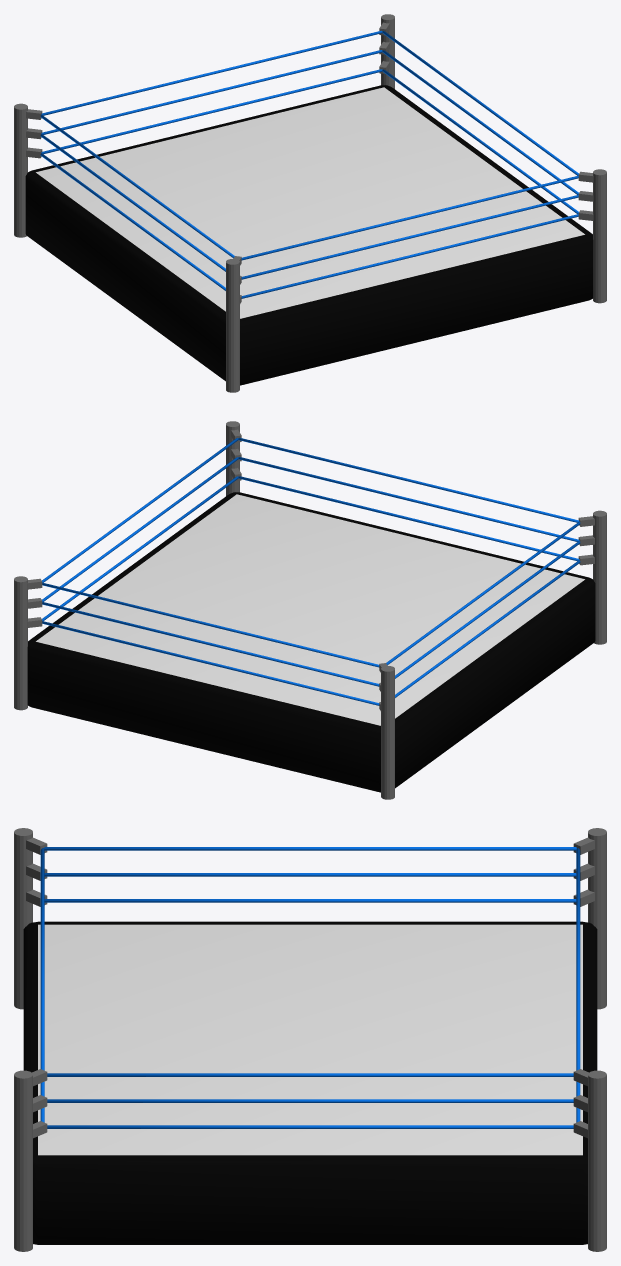
The model's file is ring.dae.
3 renders of one model, top to bottom at view 1: azimuth 30°, elevation 25°; view 2: azimuth 150°, elevation 25°; view 3: azimuth 270°, elevation 25°, orthographic. The views are drawn at different scales.
Visible parts, largest first — view 1: Cube, Turnbuckle, Turnbuckle.002, Turnbuckle.003, Rope.005, Rope.004, Rope.009, Rope.010, Rope.011, Rope.003, Turnbuckle.001, Rope (+5 smaller); view 2: Cube, Turnbuckle.001, Turnbuckle.003, Turnbuckle.002, Rope.011, Rope.003, Rope.004, Rope.005, Rope.010, Rope.009, Turnbuckle, Rope (+5 smaller); view 3: Cube, Turnbuckle, Turnbuckle.001, Turnbuckle.002, Turnbuckle.003, Rope.006, Rope.007, Rope.008, Rope, Rope.001, Rope.002, Rope.005 (+1 smaller).
Boxes of the visible parts, bbox=[...] form: Cube: bbox=[25, 85, 593, 385]; Turnbuckle: bbox=[578, 169, 606, 303]; Turnbuckle.002: bbox=[14, 103, 42, 237]; Turnbuckle.003: bbox=[226, 256, 241, 392]; Rope.005: bbox=[41, 30, 382, 115]; Rope.004: bbox=[41, 50, 382, 134]; Rope.009: bbox=[241, 214, 578, 298]; Rope.010: bbox=[241, 195, 578, 279]; Rope.011: bbox=[241, 175, 578, 260]; Rope.003: bbox=[41, 69, 382, 154]; Turnbuckle.001: bbox=[379, 14, 394, 88]; Rope: bbox=[382, 31, 578, 175]; Cube: bbox=[27, 492, 595, 792]; Turnbuckle.001: bbox=[14, 576, 42, 710]; Turnbuckle.003: bbox=[578, 510, 606, 644]; Turnbuckle.002: bbox=[379, 663, 394, 799]; Rope.011: bbox=[238, 437, 579, 522]; Rope.003: bbox=[42, 621, 379, 705]; Rope.004: bbox=[42, 602, 379, 686]; Rope.005: bbox=[42, 582, 379, 667]; Rope.010: bbox=[238, 457, 579, 541]; Rope.009: bbox=[238, 476, 579, 561]; Turnbuckle: bbox=[226, 421, 241, 495]; Rope: bbox=[42, 438, 238, 582]; Cube: bbox=[23, 921, 597, 1244]; Turnbuckle: bbox=[14, 1069, 47, 1251]; Turnbuckle.001: bbox=[573, 1069, 606, 1251]; Turnbuckle.002: bbox=[573, 828, 606, 1009]; Turnbuckle.003: bbox=[14, 828, 47, 1009]; Rope.006: bbox=[44, 847, 576, 850]; Rope.007: bbox=[44, 873, 576, 876]; Rope.008: bbox=[44, 899, 576, 902]; Rope: bbox=[47, 1073, 573, 1076]; Rope.001: bbox=[47, 1099, 573, 1102]; Rope.002: bbox=[47, 1125, 573, 1128]; Rope.005: bbox=[576, 848, 580, 1070].
Size of the model in its own units: 6.2 by 6.2 by 2.
